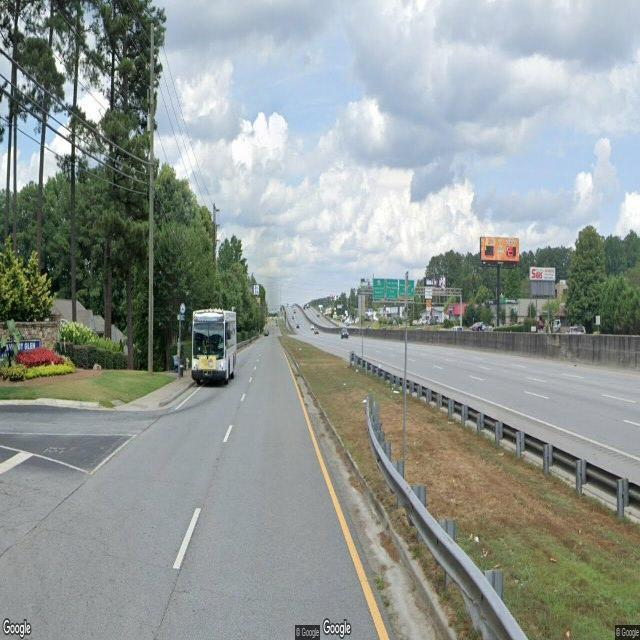seating: (173, 354, 183, 372)
trash_can: (180, 360, 183, 376)
